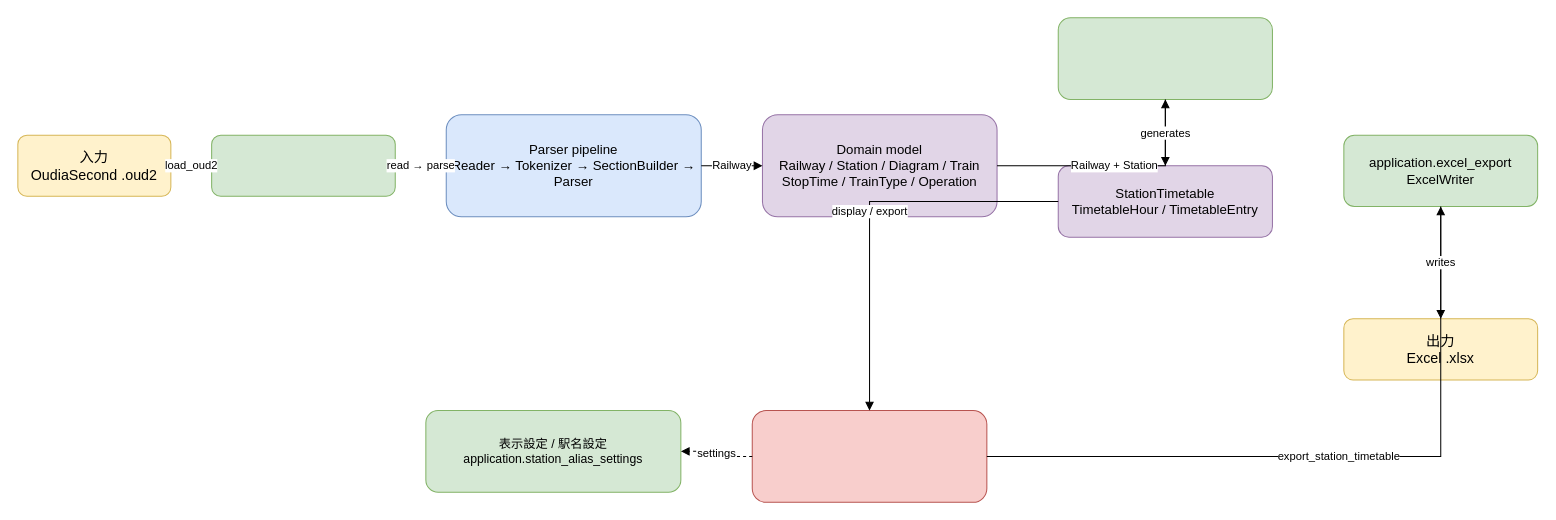
Some shapes in this 1556 by 520 pixel diagram are drawn without their labels. Here are the shapes that lost their labels. From the top down, the box of each, then its label:
(1057, 17, 1272, 99): application.station_timetable StationTimetableGenerator
(211, 134, 395, 196): application.oud2_loader load_oud2(path)
(751, 410, 987, 502): UI MainWindow / TimetablePreview DisplayConfigDialog
